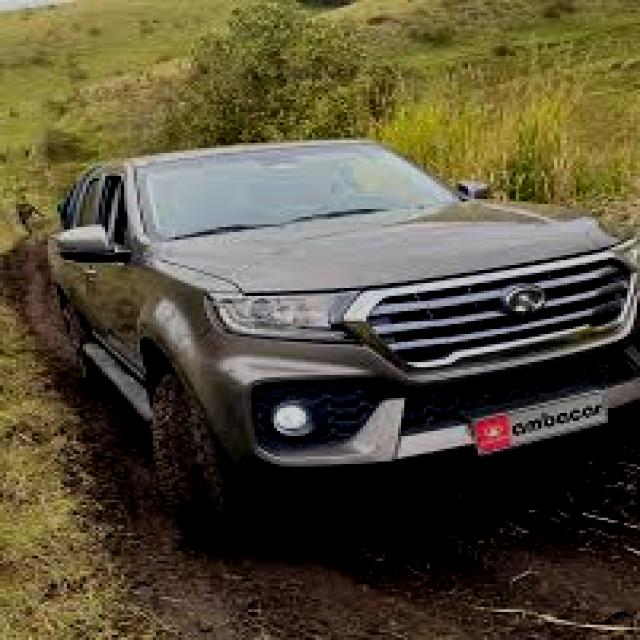CMT: (39, 151, 640, 531)
